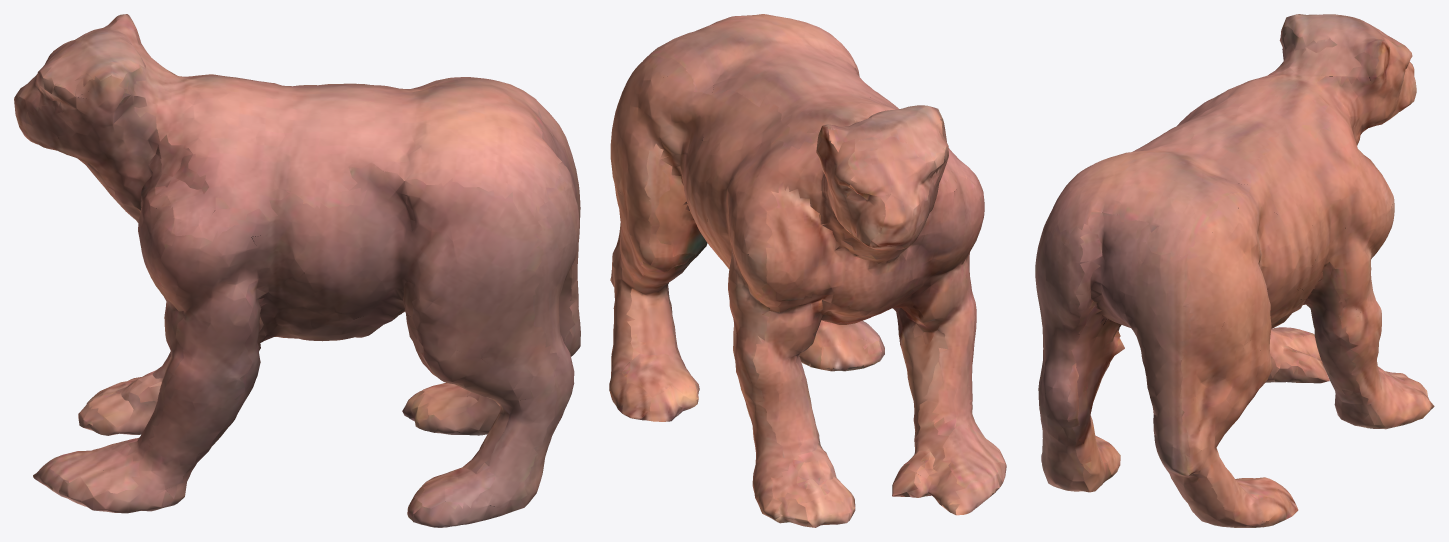
3 views of the same model, side by side, from view 1: azimuth 30°, elevation 25°; view 2: azimuth 150°, elevation 25°; view 3: azimuth 270°, elevation 25° (orthographic). The views are drawn at different scales.
Parts seen in each view (by area): view 1: world; view 2: world; view 3: world.
Part boxes in pixels (x1,y1,x2,y2): world: [14, 14, 580, 527]; world: [609, 14, 1006, 527]; world: [1035, 14, 1434, 527].
Bounding box in the file's own units: 0.909 × 0.7705 × 0.7665.
Materials: 1 (1 with a texture image).
